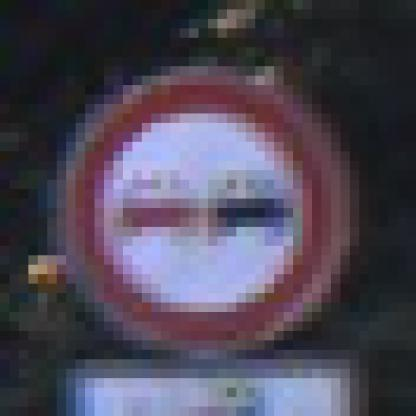No Overtaking: (48, 58, 370, 370)
